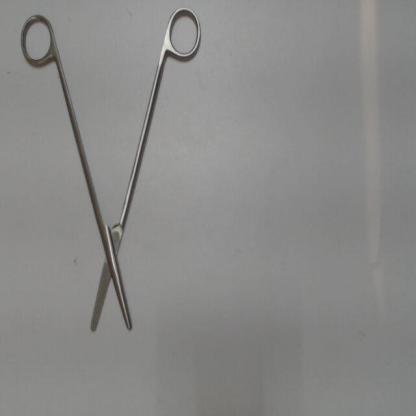9 Metzenbaum Scissors: (15, 2, 205, 340)
